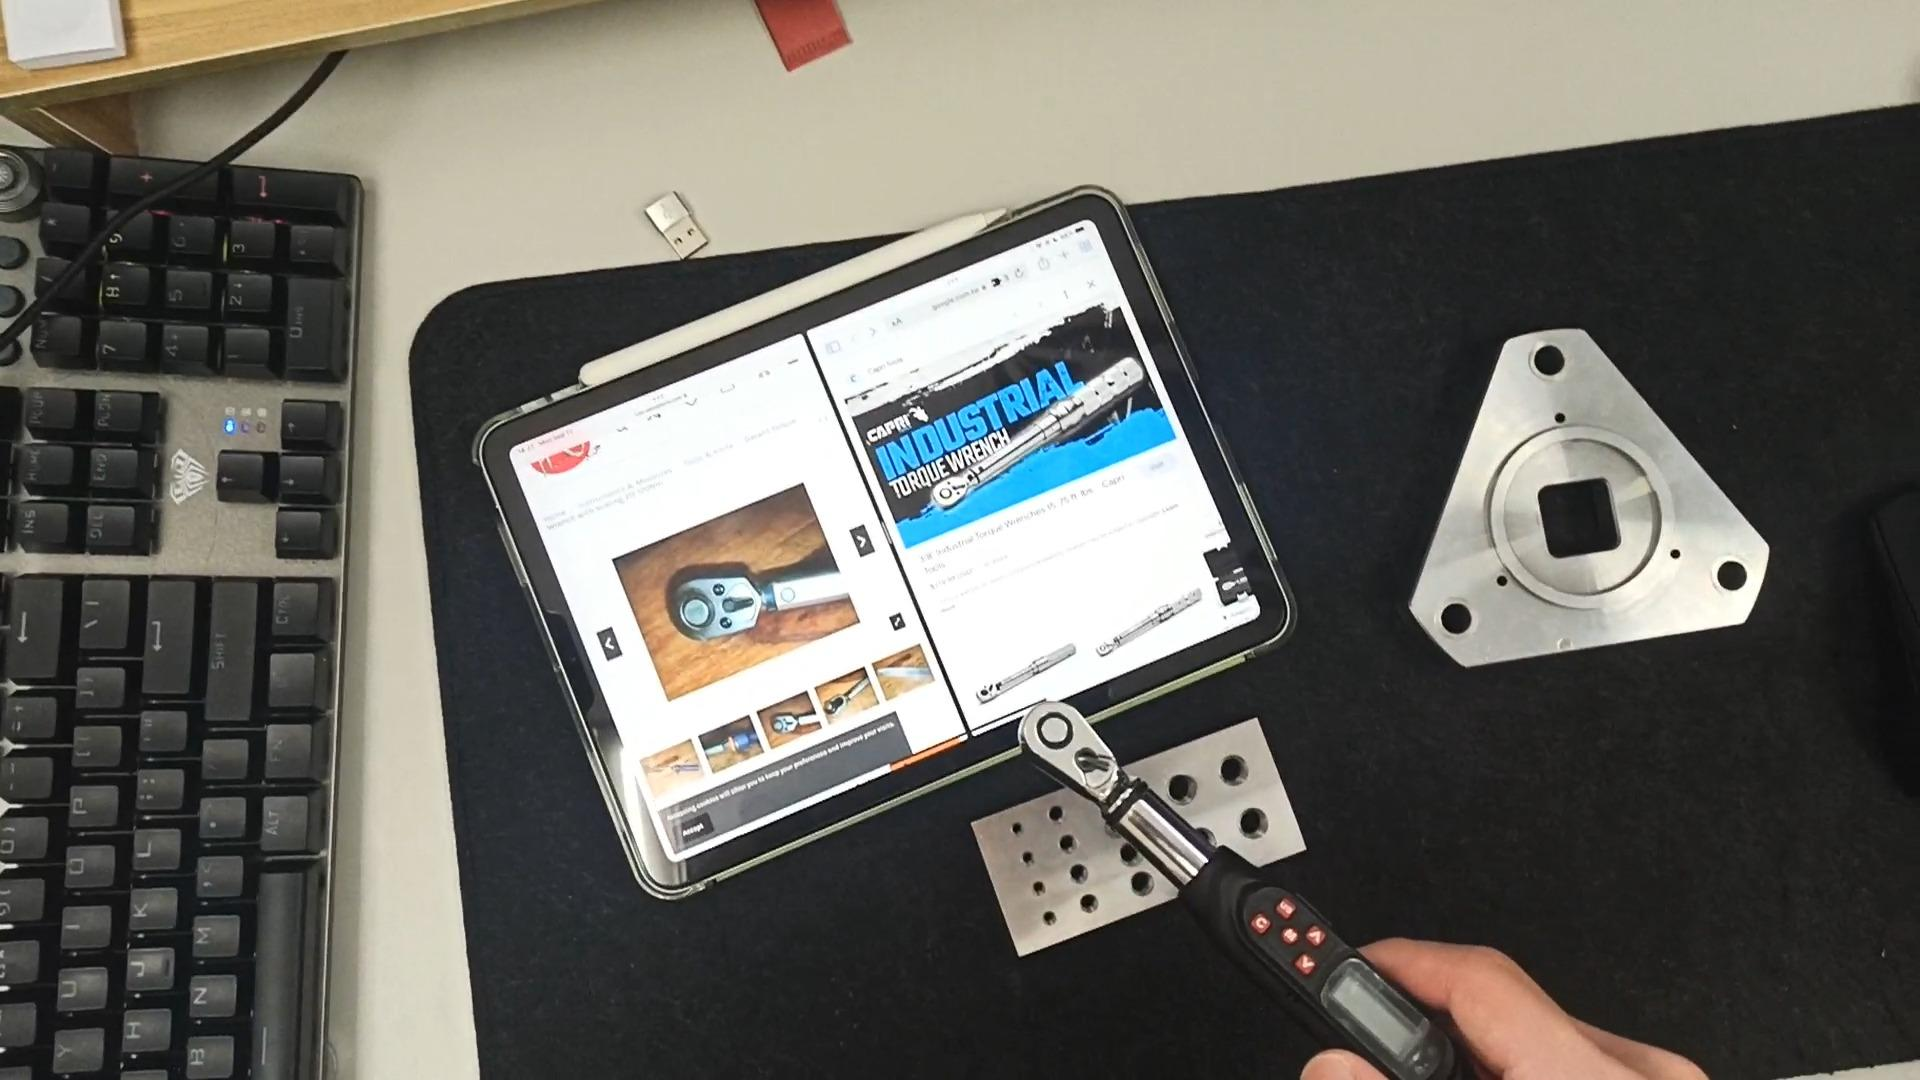Tool: (1017, 705, 1124, 802), (668, 574, 764, 637), (925, 468, 974, 510)
hole: (1513, 339, 1581, 387), (1136, 767, 1208, 811), (1209, 805, 1280, 847), (1694, 556, 1760, 601), (1189, 752, 1255, 795), (1419, 601, 1483, 644), (1115, 872, 1159, 899), (1067, 897, 1106, 919), (1050, 865, 1089, 886), (1117, 840, 1148, 864), (1029, 805, 1064, 825), (1026, 911, 1059, 930), (1041, 839, 1074, 857), (996, 820, 1027, 839), (1004, 852, 1036, 870), (1016, 879, 1047, 897)
